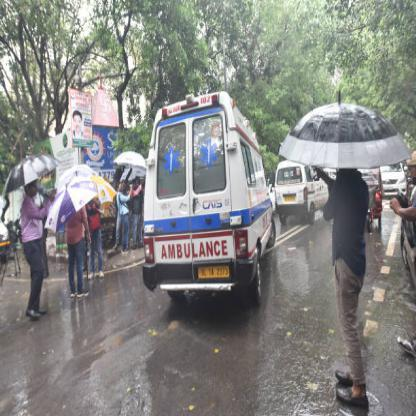Ambulance: (158, 238, 235, 262), (198, 137, 223, 172), (162, 144, 184, 180)
